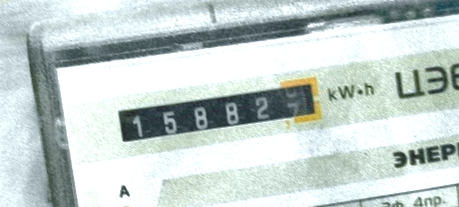1: (129, 114, 145, 141)
2: (252, 96, 272, 123)
5: (160, 110, 178, 138)
7: (284, 101, 301, 120)
8: (191, 106, 210, 133), (223, 101, 241, 128)
screen: (106, 72, 331, 159)
